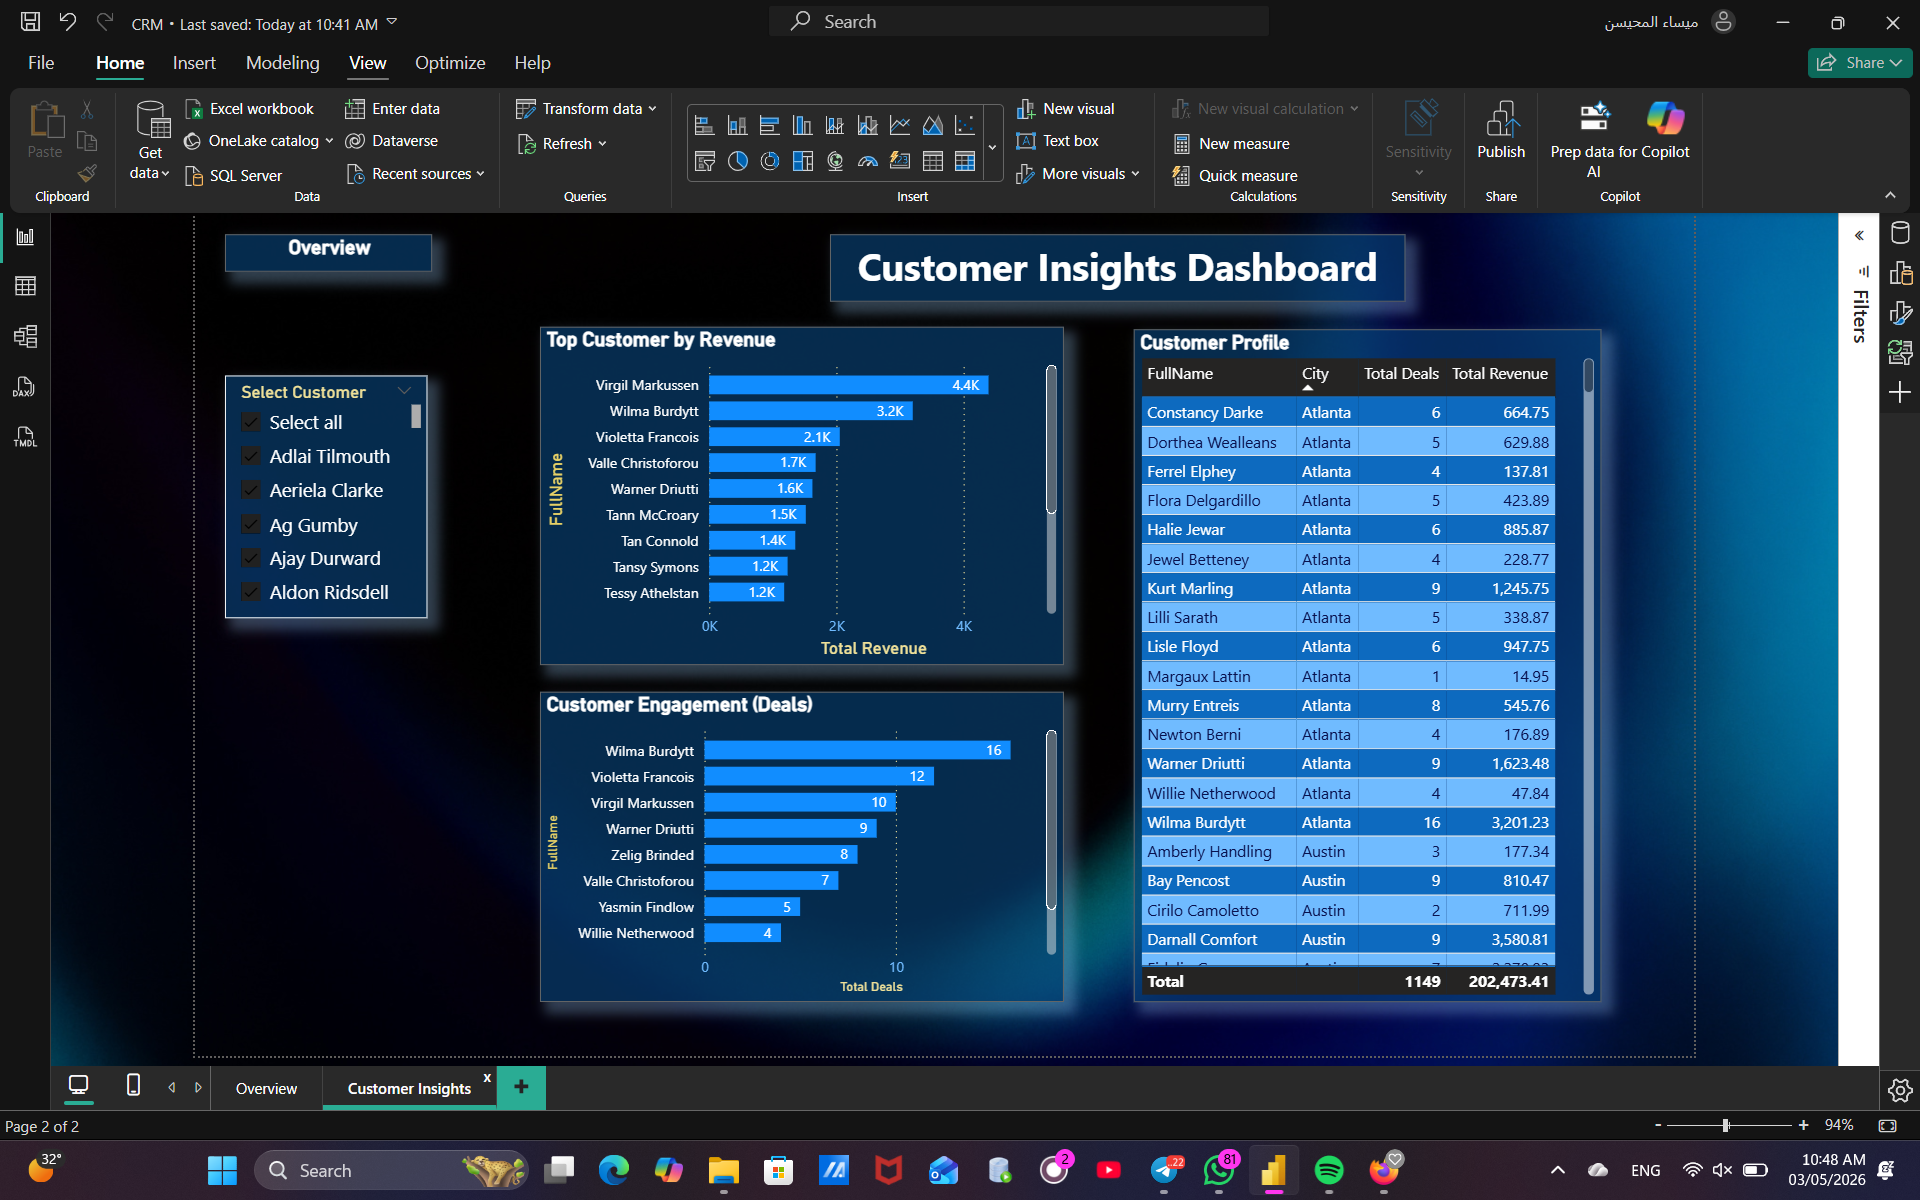

This screenshot's page, from the dashboard's own definition file:
{"tool":"powerbi","page":{"name":"Customer Insights","canvas":[1280,720],"ordinal":1},"visuals":[{"type":"clusteredBarChart","title":"Top Customer by Revenue","fields":{"Category":["Customer.FullName"],"Y":["Deal.Total Revenue"]},"box":[294.5,97.1,447.1,289.2],"z":0},{"type":"clusteredBarChart","title":"Customer Engagement (Deals)","fields":{"Category":["Customer.FullName"],"Y":["Deal.Total Deals"]},"box":[294.5,408.7,447.1,264.6],"z":1000},{"type":"tableEx","title":"Customer Profile","fields":{"Values":["Customer.FullName","Customer.City","Deal.Total Deals","Deal.Total Revenue"]},"box":[801.3,99.2,399.1,574],"z":2000},{"type":"actionButton","title":"Overview","box":[25.6,18.1,177.1,32],"z":3000},{"type":"slicer","fields":{"Values":["Customer.FullName"]},"box":[25.6,138.7,172.9,207],"z":4000},{"type":"textbox","box":[541.7,18,491.4,57.5],"z":5000}]}

Visuals, with their boxes on the page's 1280x720 design canvas (x1, y1, x2, y2). These are canvas units, not pixel positions in the 1920x1200 screenshot, which may show the page scaled, cropped or inside an application window:
"Top Customer by Revenue" clusteredBarChart: (294,97,742,386)
"Customer Engagement (Deals)" clusteredBarChart: (294,409,742,673)
"Customer Profile" tableEx: (801,99,1200,673)
"Overview" actionButton: (26,18,203,50)
slicer - Customer.FullName: (26,139,198,346)
textbox: (542,18,1033,76)
